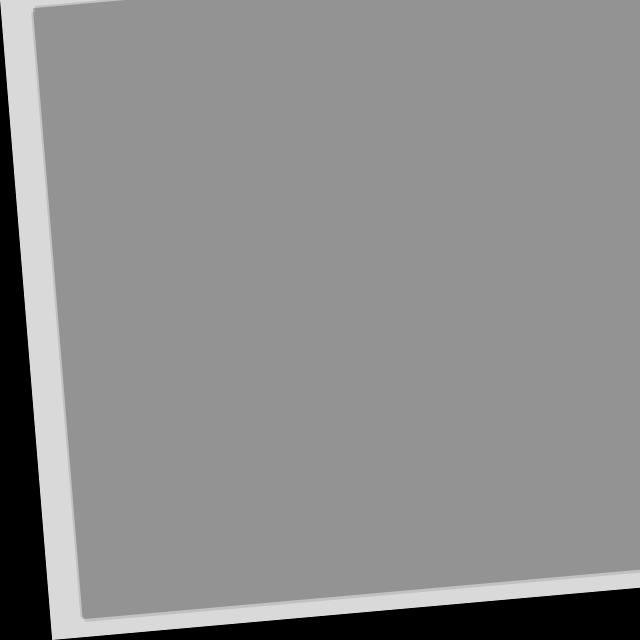qr_code: (33, 0, 640, 620)
